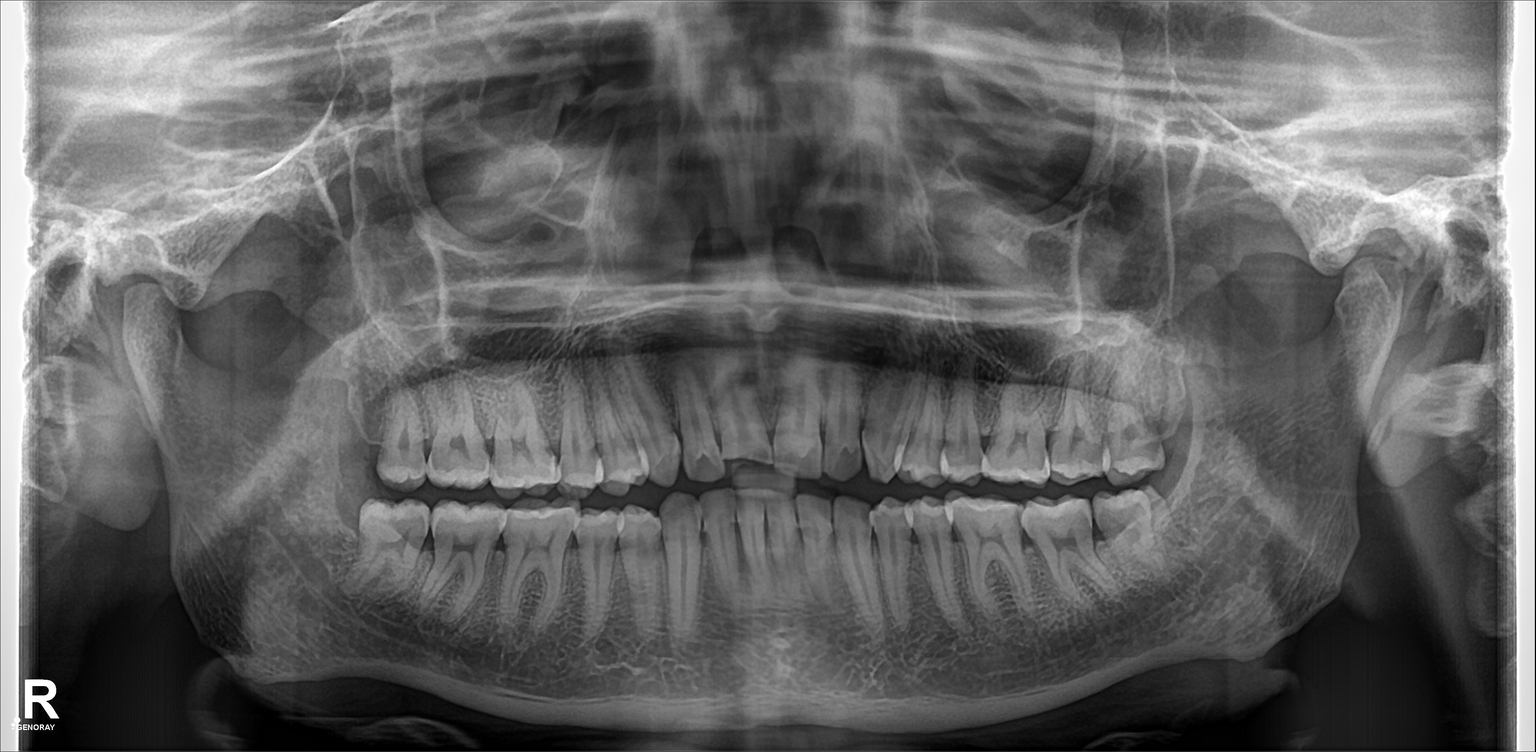Impacted Third Molar: (1093, 490, 1171, 581)
Missing Tooth: (348, 389, 384, 487)
